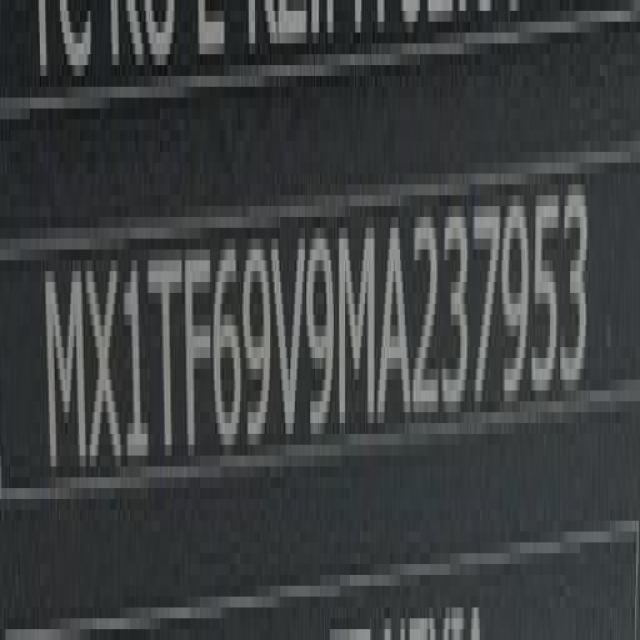1: (121, 241, 150, 470)
2: (415, 210, 439, 427)
3: (561, 176, 588, 398), (445, 197, 471, 422)
5: (534, 180, 563, 400)
6: (213, 240, 242, 458)
7: (474, 195, 498, 415)
9: (306, 220, 334, 444), (502, 192, 530, 407), (246, 233, 272, 451)
A: (382, 205, 413, 433)
F: (186, 243, 212, 466)
M: (338, 215, 378, 440)
T: (150, 247, 181, 471)
V: (275, 222, 306, 450)
W: (42, 253, 84, 483)
X: (88, 252, 122, 480)
